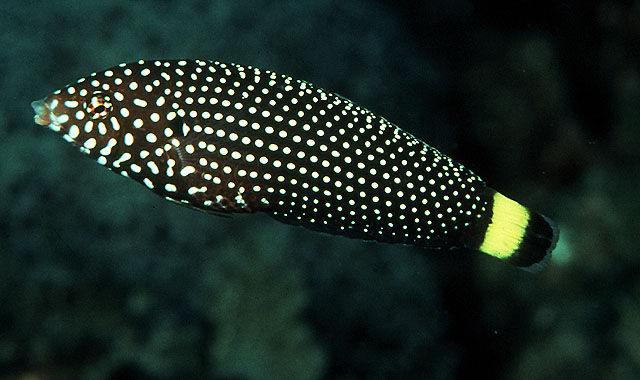fish: (31, 58, 560, 274)
